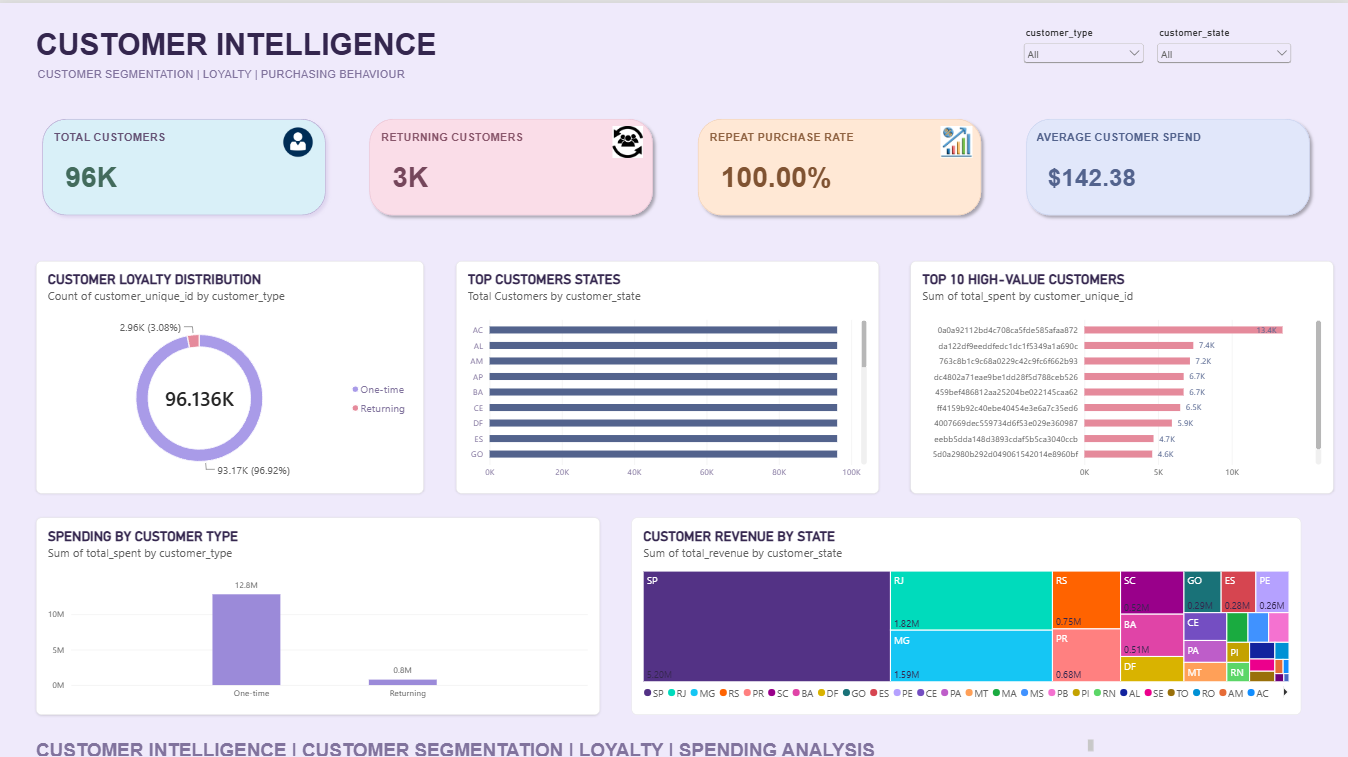

This screenshot's page, from the dashboard's own definition file:
{"tool":"powerbi","page":{"name":"CUSTOMER INTELLIGENCE","canvas":[1920,1080],"ordinal":1},"visuals":[{"type":"textbox","box":[55,35,900,55],"z":0},{"type":"textbox","box":[57,91,850,28],"z":1000},{"type":"shape","box":[55,155,420,155],"z":2000},{"type":"textbox","box":[80,180,350,25],"z":3000},{"type":"cardVisual","fields":{"Data":["gold_customer_geography.Total Customers"]},"box":[80,215,350,65],"z":4000},{"type":"image","box":[405,175,45,45],"z":5000},{"type":"shape","box":[520,155,420,155],"z":6000},{"type":"textbox","box":[545,180,350,25],"z":7000},{"type":"cardVisual","fields":{"Data":["gold_customer_geography.Returning Customers"]},"box":[545,215,350,65],"z":8000},{"type":"image","box":[872.2,174.9,45,45],"z":9000},{"type":"shape","box":[985,155,420,155],"z":10000},{"type":"textbox","box":[1010,180,350,25],"z":11000},{"type":"textbox","box":[55,372.5,420,155],"z":12000},{"type":"cardVisual","fields":{"Data":["gold_customer_geography.Repeat Purchase Rate"]},"box":[1010,215,350,65],"z":13000},{"type":"image","box":[1337.8,174.9,45,45],"z":14000},{"type":"shape","box":[1450,155,420,155],"z":15000},{"type":"cardVisual","fields":{"Data":["gold_customer_summary.Average Customer Spend"]},"box":[1475,215,350,65],"z":16000},{"type":"textbox","box":[1475,180,350,25],"z":17000},{"type":"donutChart","title":"CUSTOMER LOYALTY DISTRIBUTION","fields":{"Category":["gold_customer_summary.customer_type"],"Y":["CountNonNull(gold_customer_summary.customer_unique_id)"]},"box":[55,365,550,330],"z":18000},{"type":"clusteredBarChart","title":"TOP CUSTOMERS STATES","fields":{"Category":["gold_customer_geography.customer_state"],"Y":["gold_customer_geography.Total Customers"]},"box":[650,365,600,330],"z":19000},{"type":"clusteredColumnChart","title":"SPENDING BY CUSTOMER TYPE","fields":{"Category":["gold_customer_summary.customer_type"],"Y":["Sum(gold_customer_summary.total_spent)"]},"box":[55,730,800,280],"z":20000},{"type":"clusteredBarChart","title":"TOP 10 HIGH-VALUE CUSTOMERS","fields":{"Category":["gold_customer_summary.customer_unique_id"],"Y":["Sum(gold_customer_summary.total_spent)"]},"box":[1296,366.5,600,330],"z":21000},{"type":"treemap","title":"CUSTOMER REVENUE BY STATE","fields":{"Group":["gold_customer_geography.customer_state"],"Values":["Sum(gold_customer_geography.total_revenue)"]},"box":[900,730,950,280],"z":22000},{"type":"textbox","box":[55,1045,1500,22],"z":23000},{"type":"slicer","fields":{"Values":["gold_customer_summary.customer_type"]},"box":[1450,35,180,65],"z":23001},{"type":"slicer","fields":{"Values":["gold_customer_geography.customer_state"]},"box":[1640,35,200,65],"z":23002}]}

Visuals, with their boxes in screenshot pixels (x1, y1, x2, y2), scaled from the page's 1920x1080 canvas onto the 1348x757 screenshot:
textbox: [x1=39, y1=25, x2=670, y2=63]
textbox: [x1=40, y1=64, x2=637, y2=83]
shape: [x1=39, y1=109, x2=333, y2=217]
textbox: [x1=56, y1=126, x2=302, y2=144]
cardVisual - gold_customer_geography.Total Customers: [x1=56, y1=151, x2=302, y2=196]
image: [x1=284, y1=123, x2=316, y2=154]
shape: [x1=365, y1=109, x2=660, y2=217]
textbox: [x1=383, y1=126, x2=628, y2=144]
cardVisual - gold_customer_geography.Returning Customers: [x1=383, y1=151, x2=628, y2=196]
image: [x1=612, y1=123, x2=644, y2=154]
shape: [x1=692, y1=109, x2=986, y2=217]
textbox: [x1=709, y1=126, x2=955, y2=144]
textbox: [x1=39, y1=261, x2=333, y2=370]
cardVisual - gold_customer_geography.Repeat Purchase Rate: [x1=709, y1=151, x2=955, y2=196]
image: [x1=939, y1=123, x2=971, y2=154]
shape: [x1=1018, y1=109, x2=1313, y2=217]
cardVisual - gold_customer_summary.Average Customer Spend: [x1=1036, y1=151, x2=1281, y2=196]
textbox: [x1=1036, y1=126, x2=1281, y2=144]
"CUSTOMER LOYALTY DISTRIBUTION" donutChart: [x1=39, y1=256, x2=425, y2=487]
"TOP CUSTOMERS STATES" clusteredBarChart: [x1=456, y1=256, x2=878, y2=487]
"SPENDING BY CUSTOMER TYPE" clusteredColumnChart: [x1=39, y1=512, x2=600, y2=708]
"TOP 10 HIGH-VALUE CUSTOMERS" clusteredBarChart: [x1=910, y1=257, x2=1331, y2=488]
"CUSTOMER REVENUE BY STATE" treemap: [x1=632, y1=512, x2=1299, y2=708]
textbox: [x1=39, y1=732, x2=1092, y2=748]
slicer - gold_customer_summary.customer_type: [x1=1018, y1=25, x2=1144, y2=70]
slicer - gold_customer_geography.customer_state: [x1=1151, y1=25, x2=1292, y2=70]
